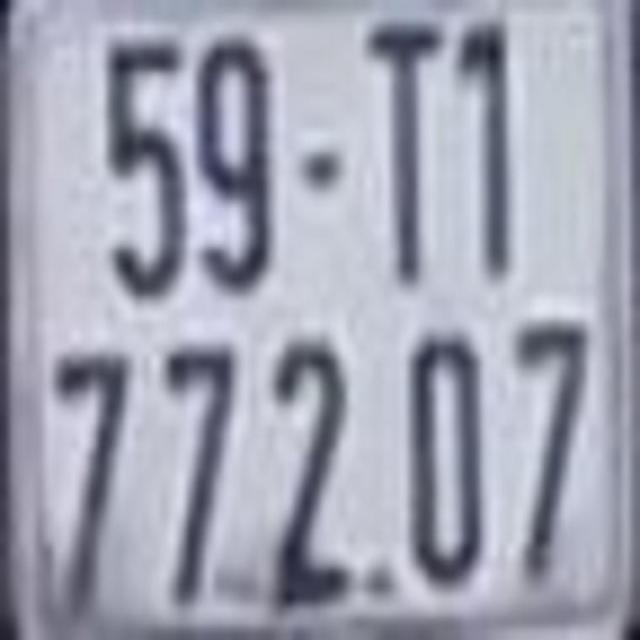0: (400, 328, 492, 585)
1: (449, 20, 530, 276)
2: (266, 323, 356, 608)
5: (98, 25, 188, 298)
7: (46, 344, 133, 603), (509, 311, 592, 579), (153, 335, 231, 602)
9: (193, 31, 272, 294)
T: (362, 19, 447, 290)
